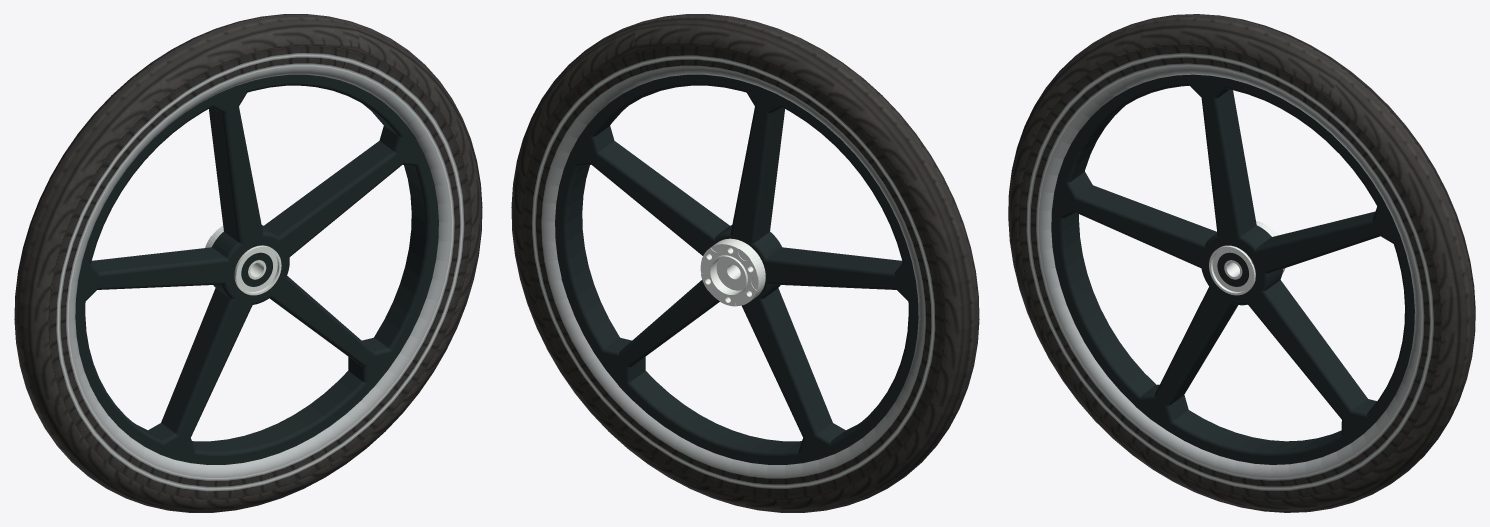
Rendered from wheel.dae.
3 renders of one model, left to right at view 1: azimuth 30°, elevation 25°; view 2: azimuth 150°, elevation 25°; view 3: azimuth 330°, elevation 25°, orthographic.
Visible parts, largest first — view 1: Drive_Wheel; view 2: Drive_Wheel; view 3: Drive_Wheel.
Part boxes in pixels (x1,y1,x2,y2): Drive_Wheel: (14, 14, 482, 512); Drive_Wheel: (511, 14, 979, 512); Drive_Wheel: (1008, 14, 1475, 512).
Bounding box in the file's own units: 0.4063 × 0.045 × 0.4063.
1 material, 1 textured.
